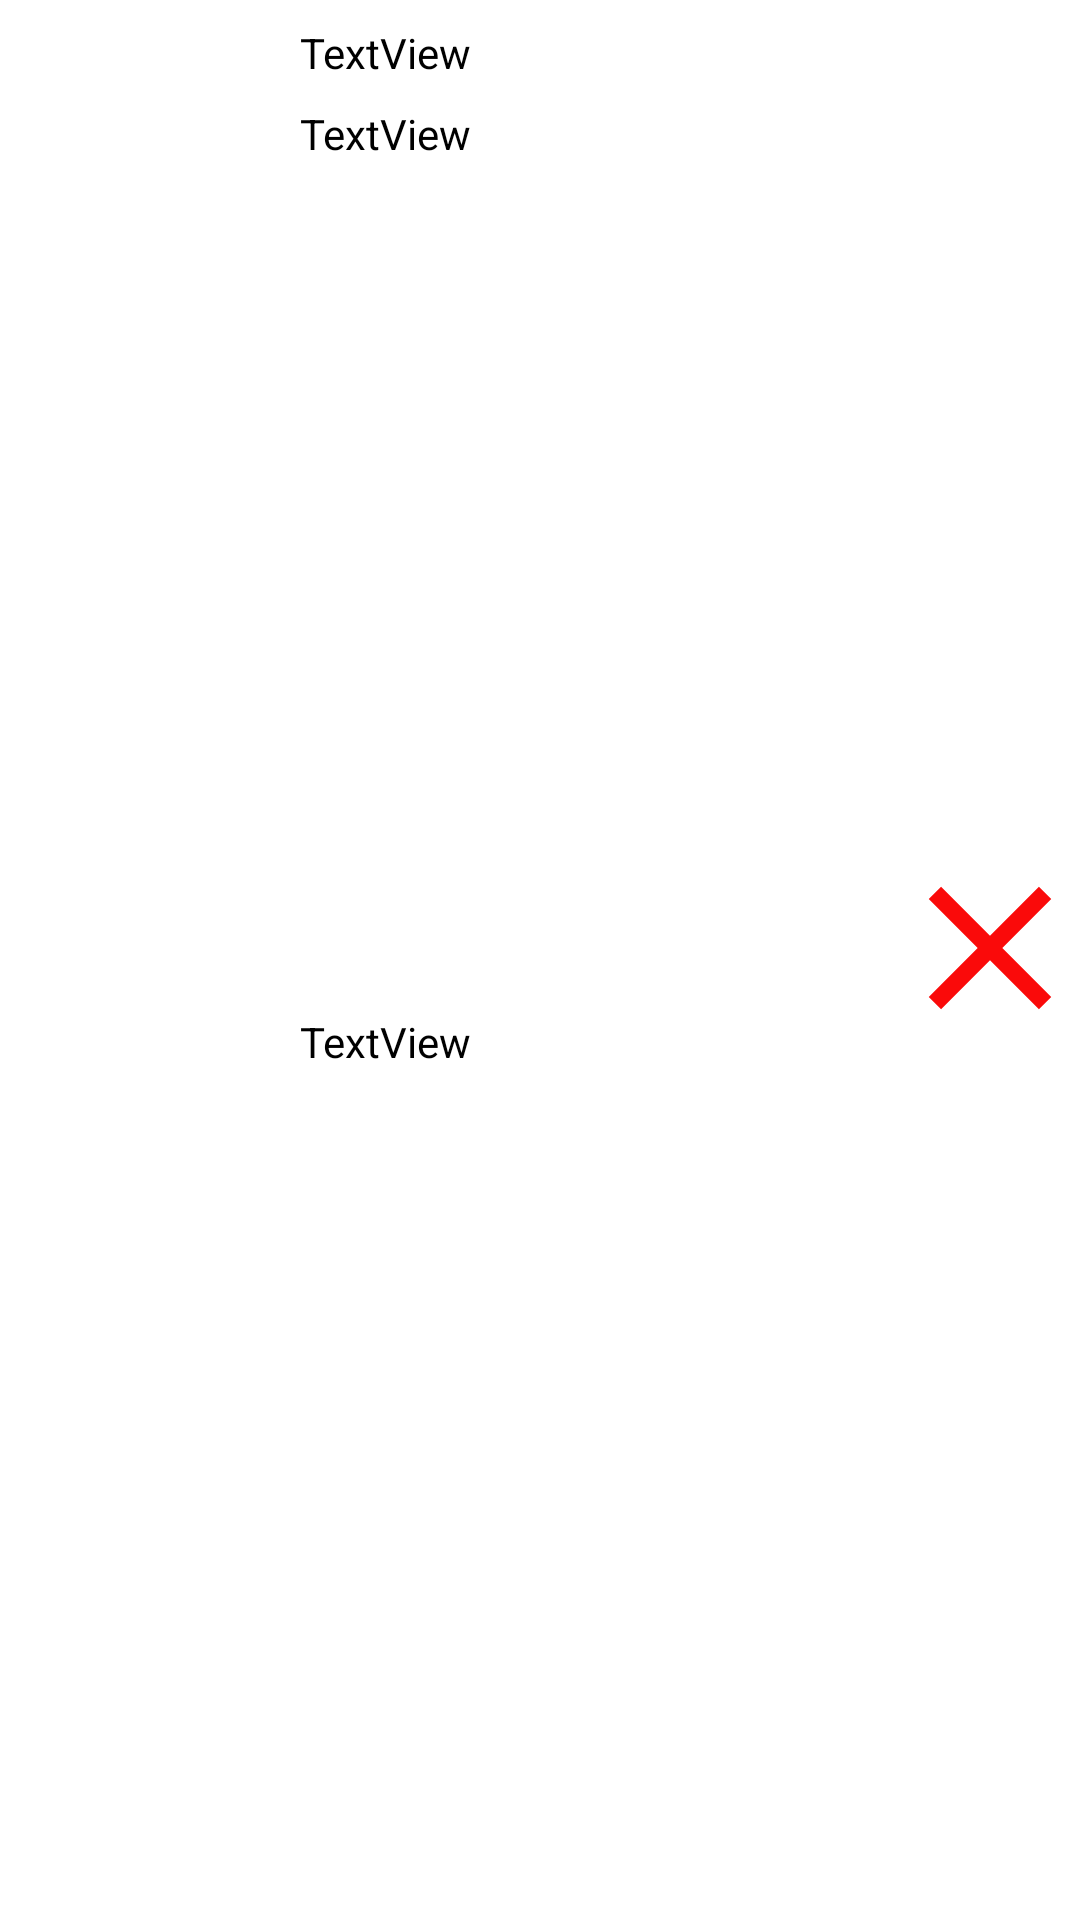

Named icons in this screenshot (1080px x 1920px) and their bounding boxes, (x1, y1, x2, y2):
close: (929, 887, 1051, 1009)
